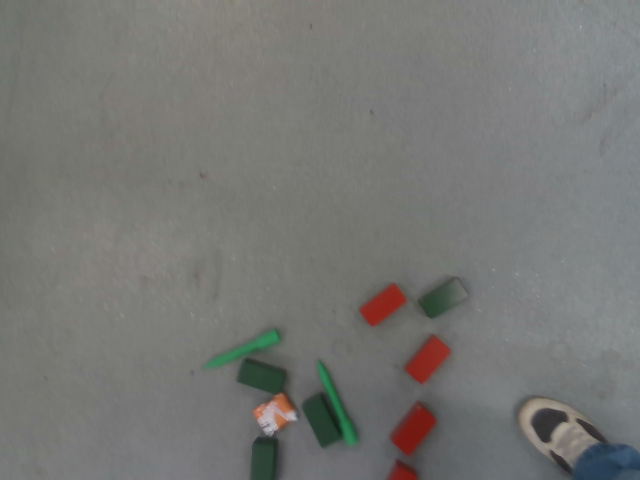Probe: (315, 357, 361, 446), (201, 326, 284, 371)
